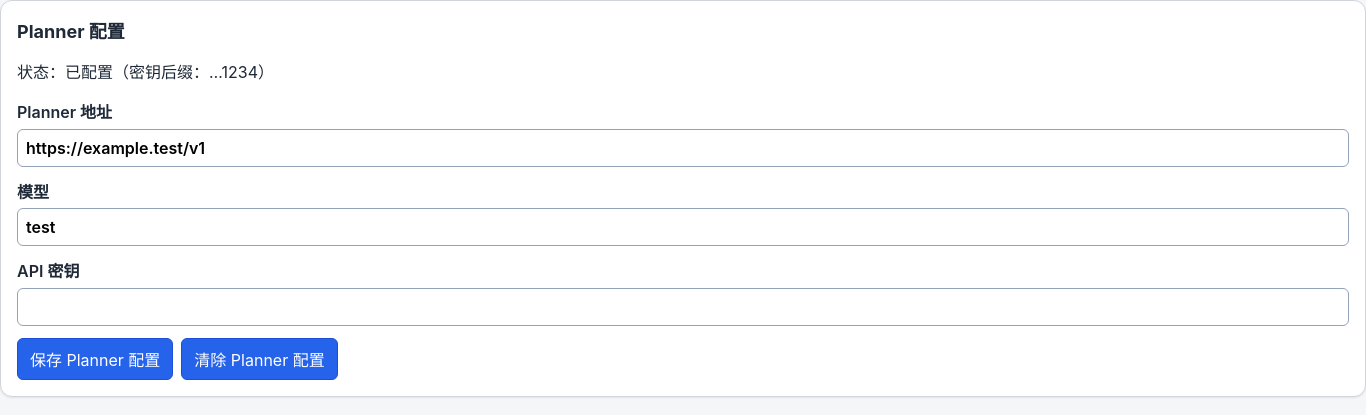
PlannerSettings › saves a Planner configuration after the initial load completes
Replace the text in the field labelled "Planner 地址" with "https://saved.example.test/v1" at (683, 148), box [17,129,1349,167]
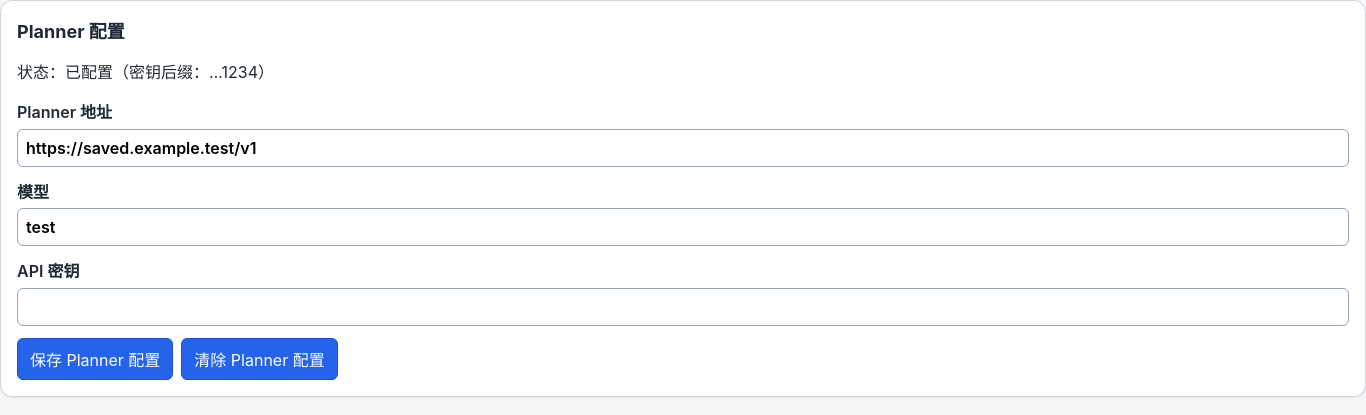
Replace the text in the field labelled "模型" with "saved-model" at (683, 227), box [17,208,1349,246]
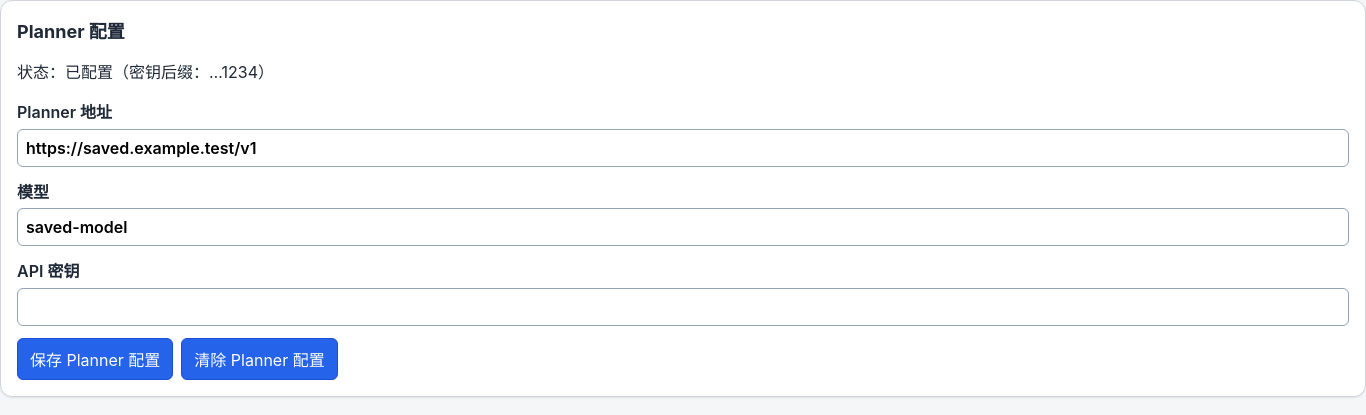
Click the button "保存 Planner 配置" at (95, 359), box [17,338,173,380]
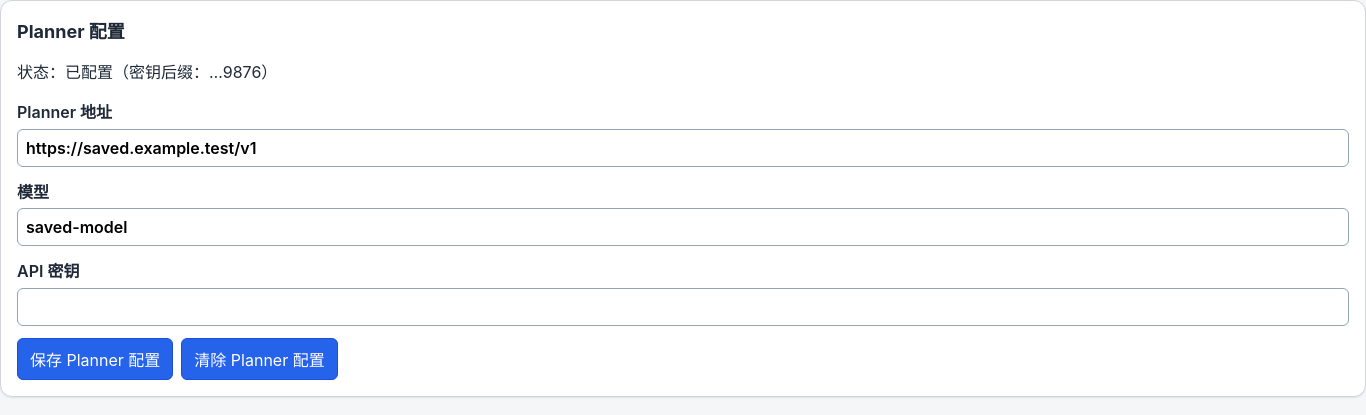
Expected: the text "…9876" is shown, [209,62,261,82]
